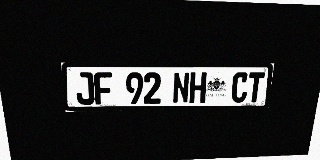2: (144, 72, 161, 104)
9: (126, 72, 143, 104)
C: (231, 72, 249, 103)
F: (94, 72, 113, 105)
H: (189, 72, 207, 103)
J: (75, 72, 95, 105)
N: (172, 72, 190, 104)
T: (246, 72, 265, 102)
